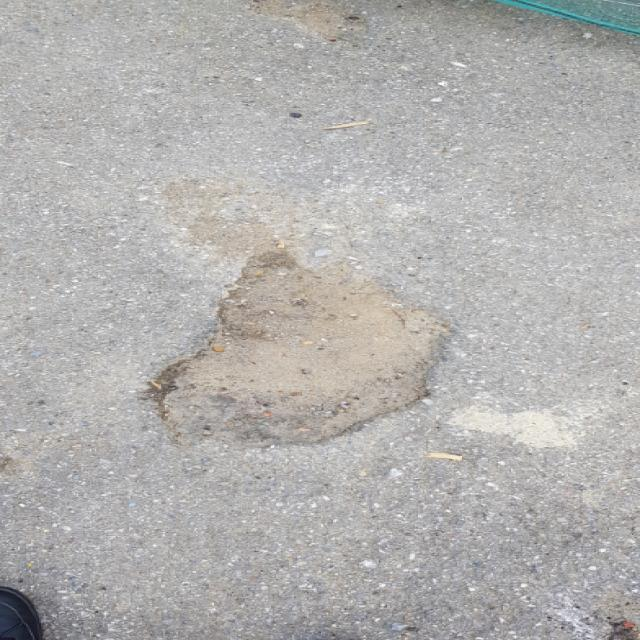pothole: (134, 244, 462, 451)
